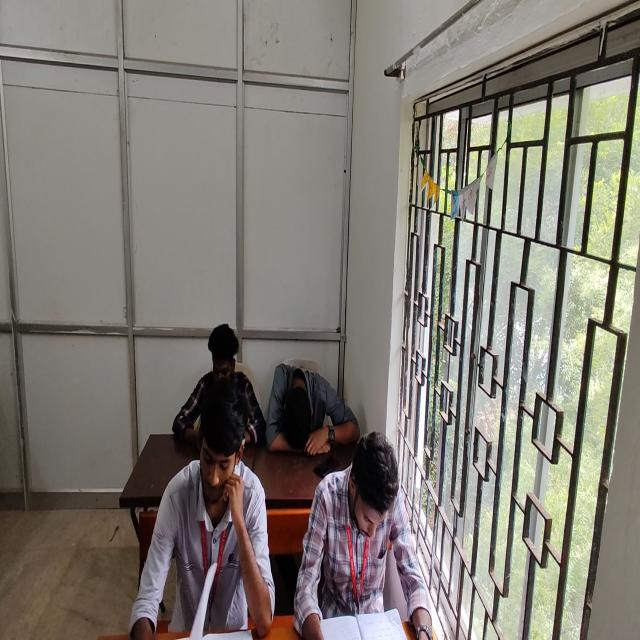reading: (130, 379, 275, 640), (297, 430, 420, 640)
sleeping: (268, 363, 359, 454)
using_mobile: (173, 322, 266, 449)
